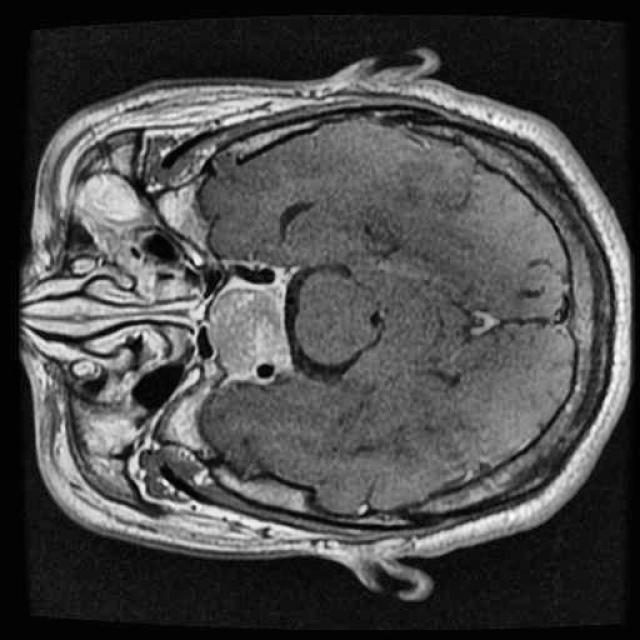Tumor: (189, 271, 306, 391)
